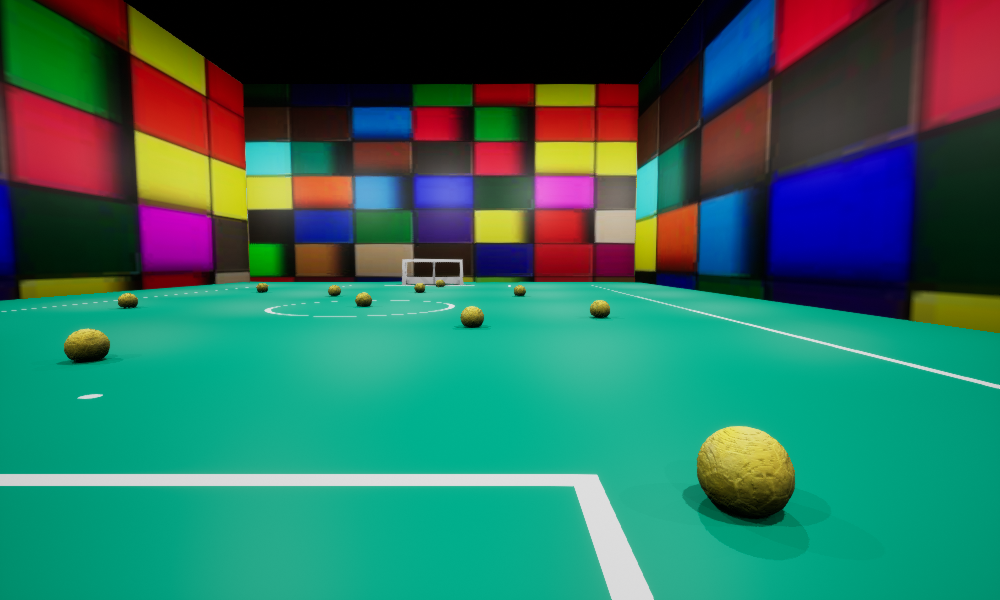b: (697, 426, 794, 516), (64, 328, 109, 361), (460, 306, 483, 327), (590, 300, 609, 317), (118, 293, 137, 307), (355, 292, 371, 305), (328, 285, 340, 295), (514, 285, 525, 295), (414, 283, 424, 292), (256, 283, 267, 291), (436, 279, 444, 286)
g: (402, 259, 463, 284)
